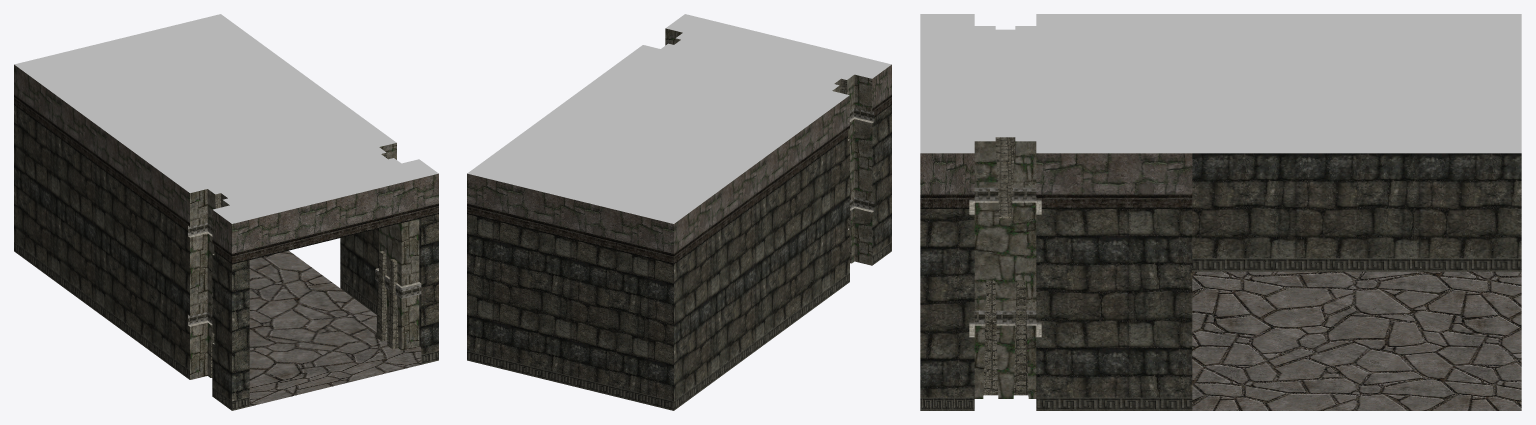
File: thm_yavn_temple_exar_kun_r1_mesh_r1.fbx
The picture shows the model from 3 angles, left to right: view 1: azimuth 30°, elevation 25°; view 2: azimuth 150°, elevation 25°; view 3: azimuth 270°, elevation 25°; orthographic projection. The views are drawn at different scales.
Parts seen in each view (by area): view 1: mesh_node; view 2: mesh_node; view 3: mesh_node.
Boxes of the visible parts, left/top/right/bottom form: mesh_node: left=14, top=14, right=438, bottom=410; mesh_node: left=467, top=14, right=891, bottom=410; mesh_node: left=920, top=14, right=1521, bottom=410.
Bounding box in the file's own units: 5.33 × 4.61 × 9.74.
